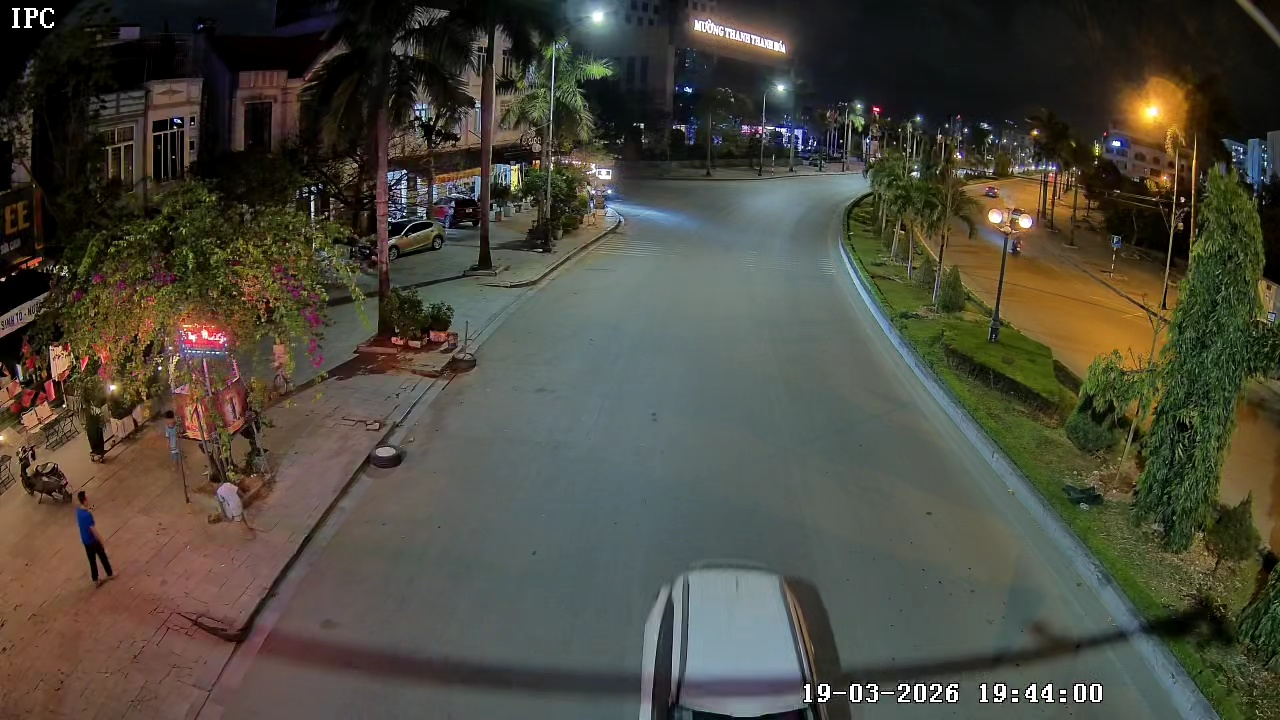car: (636, 562, 850, 719)
pedestrian: (72, 487, 125, 589)
